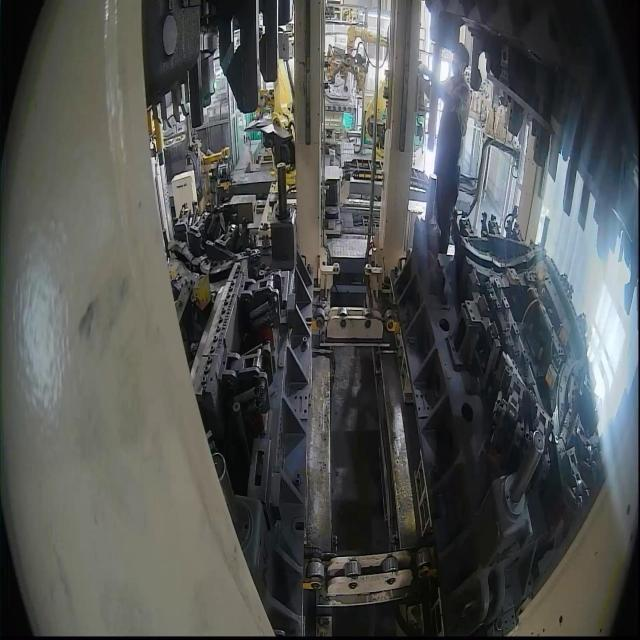Person: (432, 43, 471, 255)
